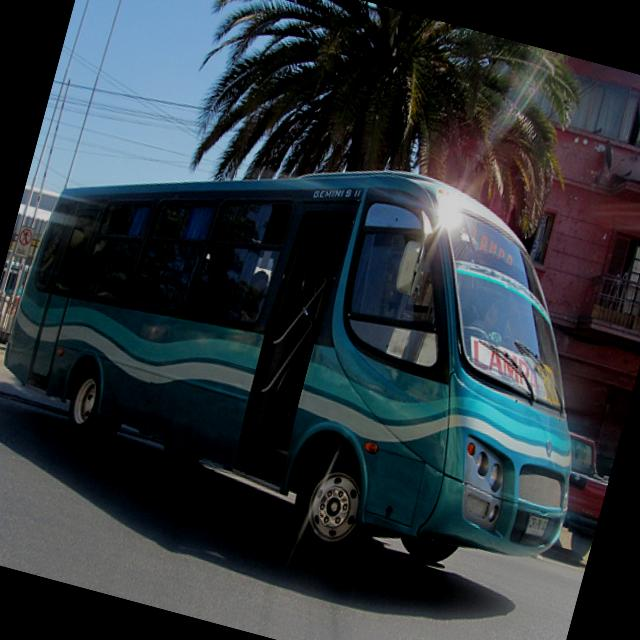Vehicle: (0, 82, 640, 621), (538, 430, 618, 560)
